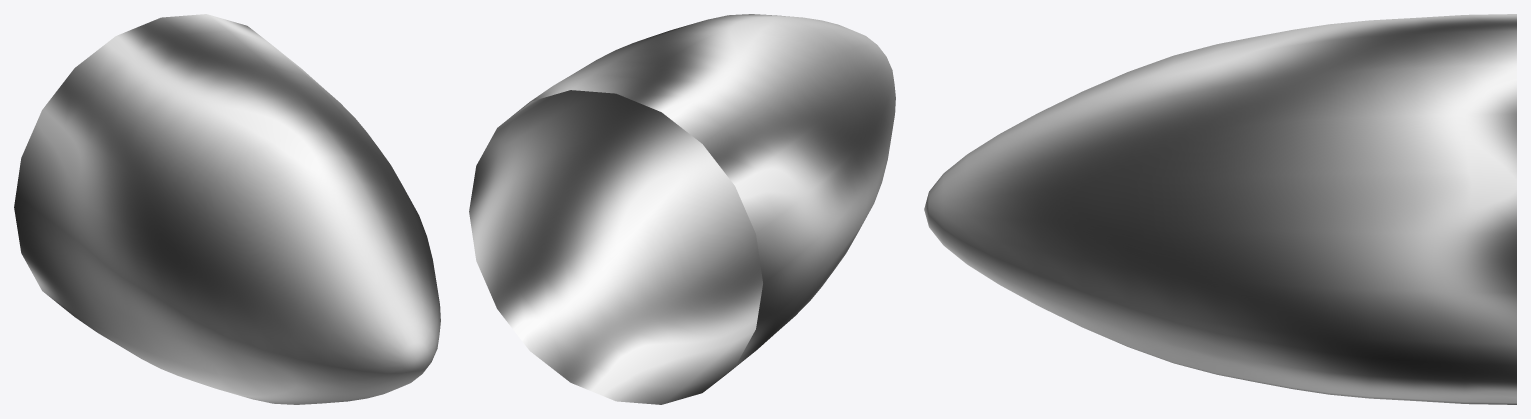
Rendered from Fire_Projectile.fbx.
3 renders of one model, left to right at view 1: azimuth 30°, elevation 25°; view 2: azimuth 150°, elevation 25°; view 3: azimuth 270°, elevation 25°, orthographic. The views are drawn at different scales.
Parts seen in each view (by area): view 1: Fire_Projectile; view 2: Fire_Projectile; view 3: Fire_Projectile.
Part boxes in pixels (x1,y1,x2,y2): Fire_Projectile: (14, 14, 440, 404); Fire_Projectile: (469, 14, 895, 404); Fire_Projectile: (924, 14, 1516, 404).
Bounding box in the file's own units: 169 × 169 × 255.
1 material, 1 textured.
